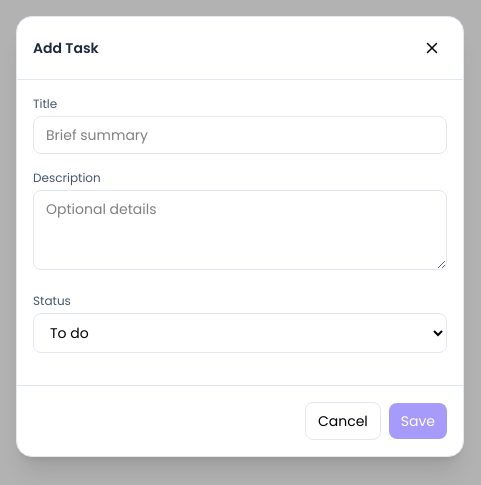
Task Add or Edit Modal › save button to be enabled if form is valid
Check: the button "Save" is disabled, box [389, 402, 447, 438]
In the field labelled "Title": (240, 134) [33, 116, 447, 154], type "Test Title"
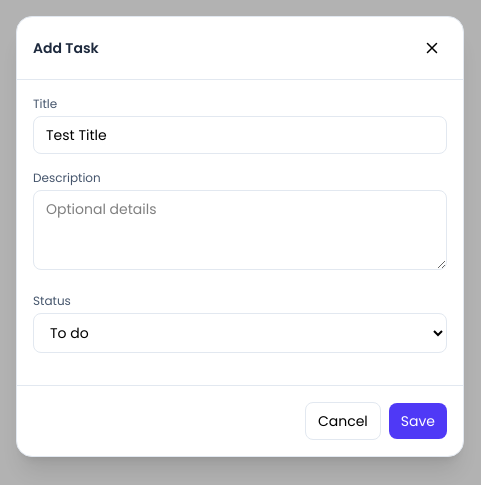
Check: the button "Save" is enabled, box [389, 402, 447, 438]
